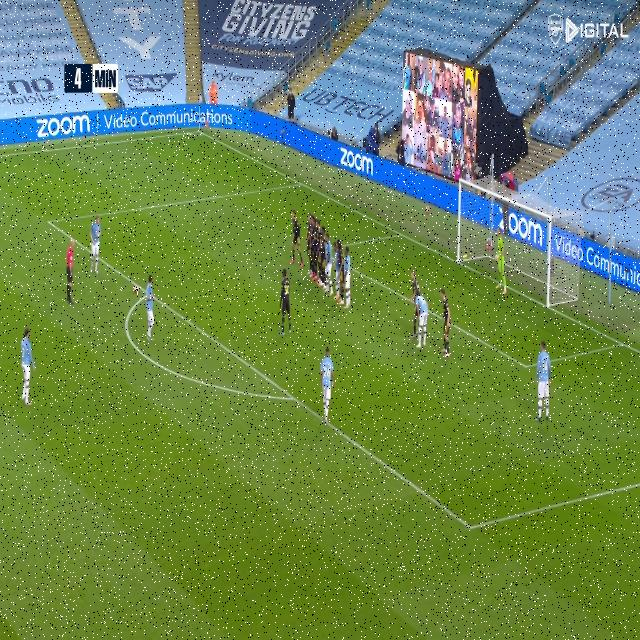Ball: (135, 284, 142, 296)
GoalKeeper: (495, 225, 510, 305)
TEAM 1: (16, 326, 41, 414), (318, 344, 338, 424), (144, 272, 161, 346), (87, 212, 106, 278), (413, 295, 432, 352), (323, 232, 335, 301), (344, 249, 356, 313)
TEAM 2: (289, 206, 324, 284), (536, 341, 556, 428), (278, 268, 296, 338), (438, 282, 455, 356), (408, 270, 422, 340), (338, 241, 344, 304)
